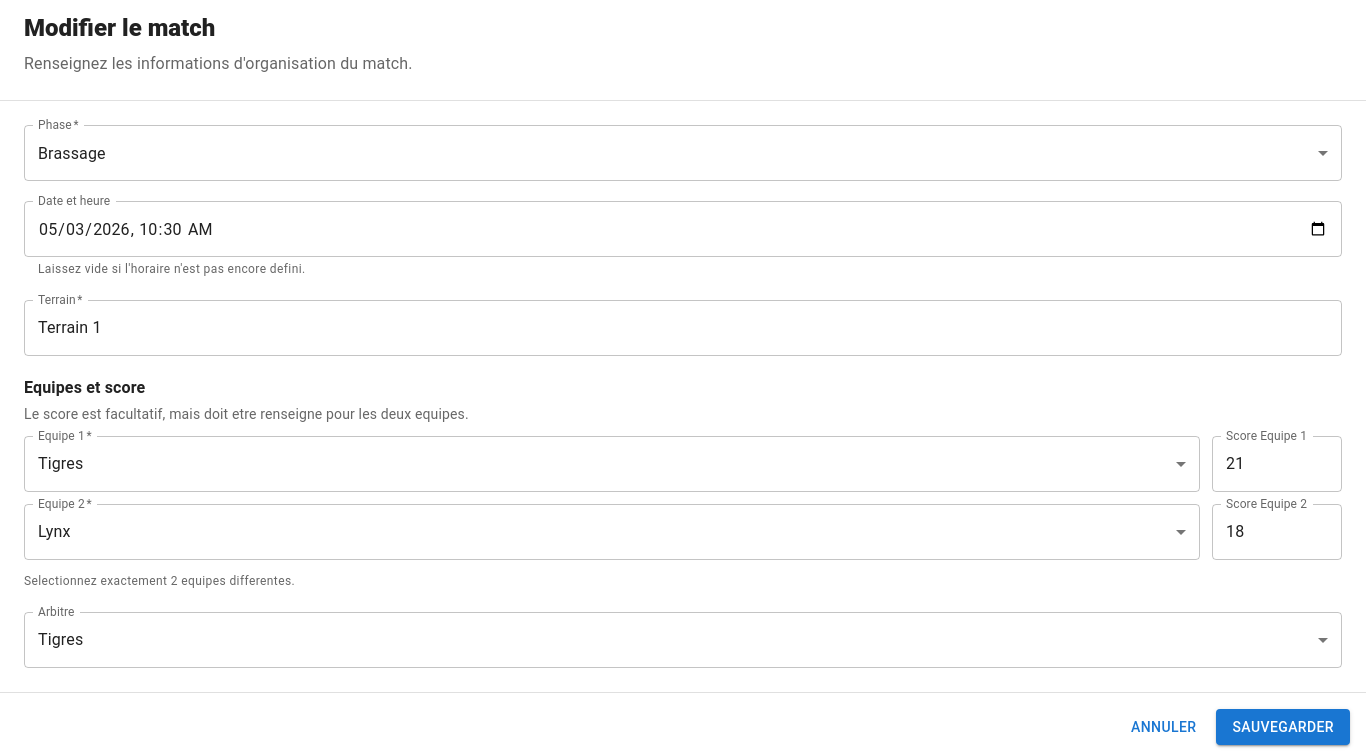
ManageGameForm › should display the submission error and enable retry
Click the button "Sauvegarder" at (1283, 727), box [1216,709,1350,745]
(page scrolled)
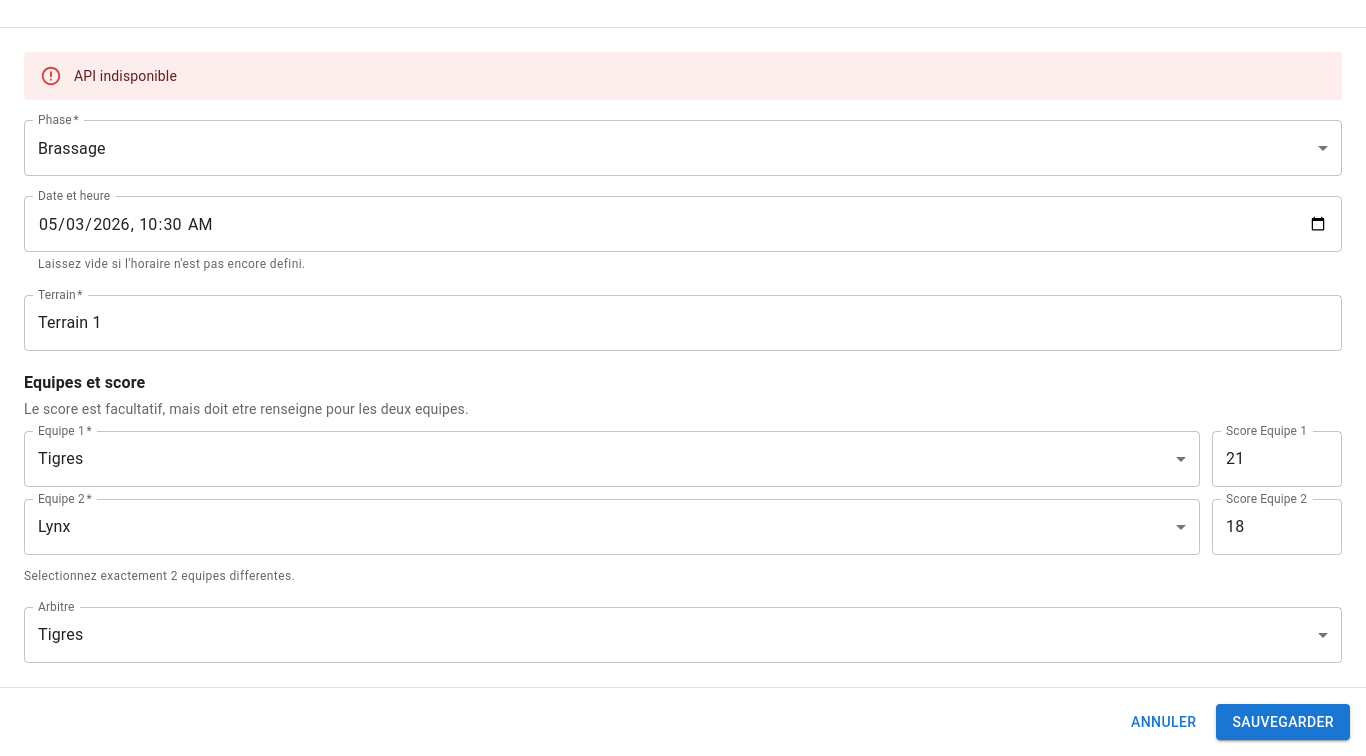
Expected: the text "API indisponible" is shown, [74,68,177,84]
